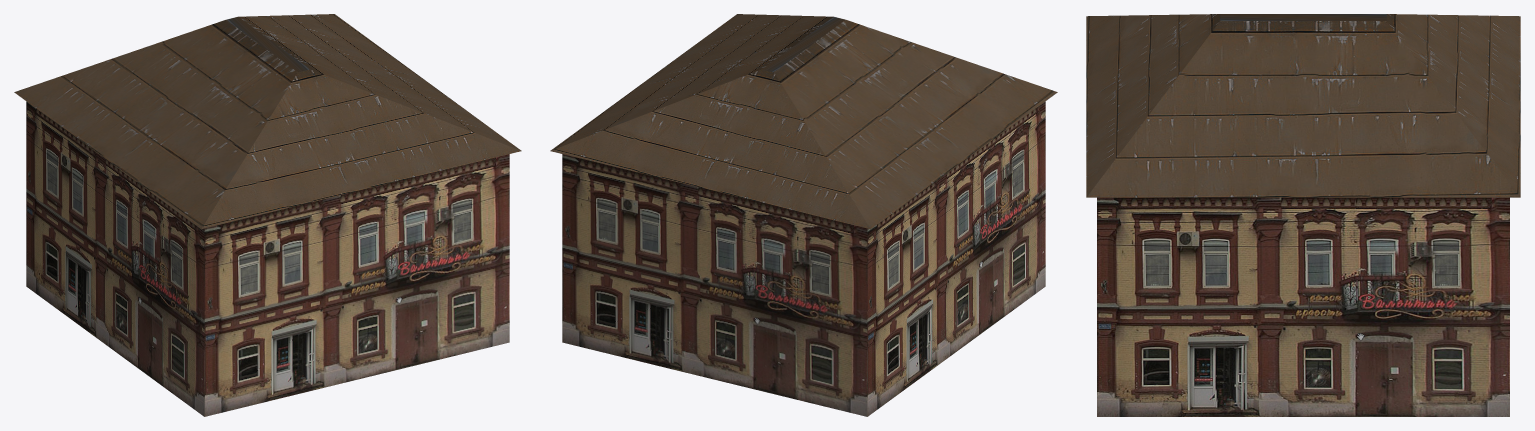
The model's file is d_dom_2et_42.FBX.
3 views of the same model, side by side, from view 1: azimuth 30°, elevation 25°; view 2: azimuth 150°, elevation 25°; view 3: azimuth 270°, elevation 25° (orthographic). The views are drawn at different scales.
Parts seen in each view (by area): view 1: d_dom_2et_42; view 2: d_dom_2et_42; view 3: d_dom_2et_42.
Part boxes in pixels (box(x1,y1,x2,y2)): d_dom_2et_42: box(14, 14, 521, 416); d_dom_2et_42: box(550, 14, 1057, 416); d_dom_2et_42: box(1086, 14, 1520, 416).
Size of the model in its own units: 10.65 by 10.77 by 8.57.
